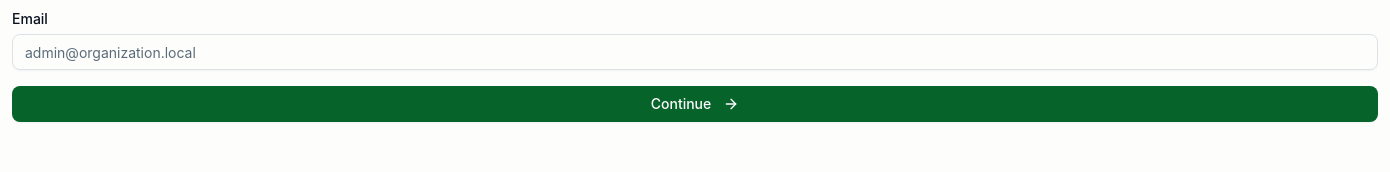
Test case: ForgotPasswordForm › resets the form and navigates to /otp on success
The image size is (1390, 172).
Step 1. Type "a@b.com" into the field labelled "Email" → (695, 52), box [12, 34, 1378, 70]
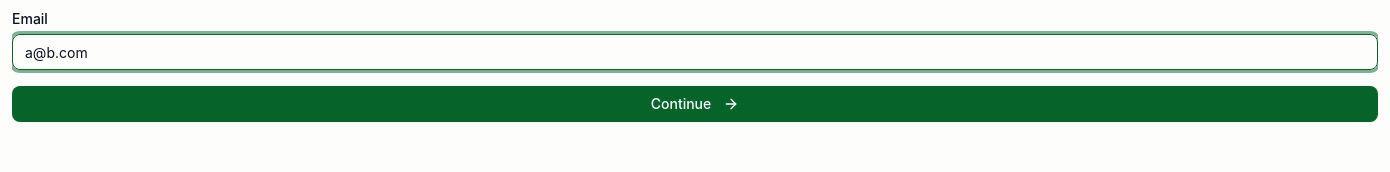
Step 2. Click the button "Continue" → (695, 104), box [12, 86, 1378, 122]
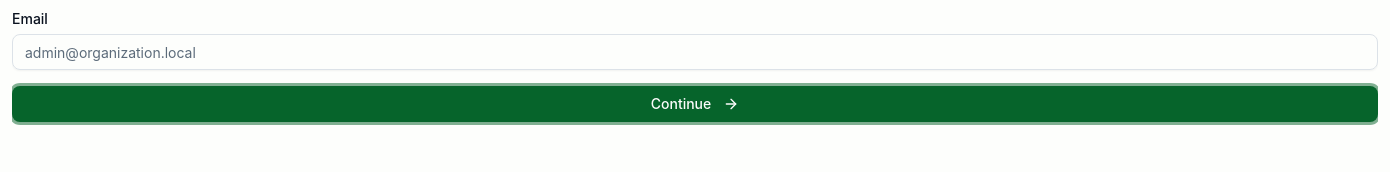
Expected: the field labelled "Email" is empty, [12, 34, 1378, 70]
